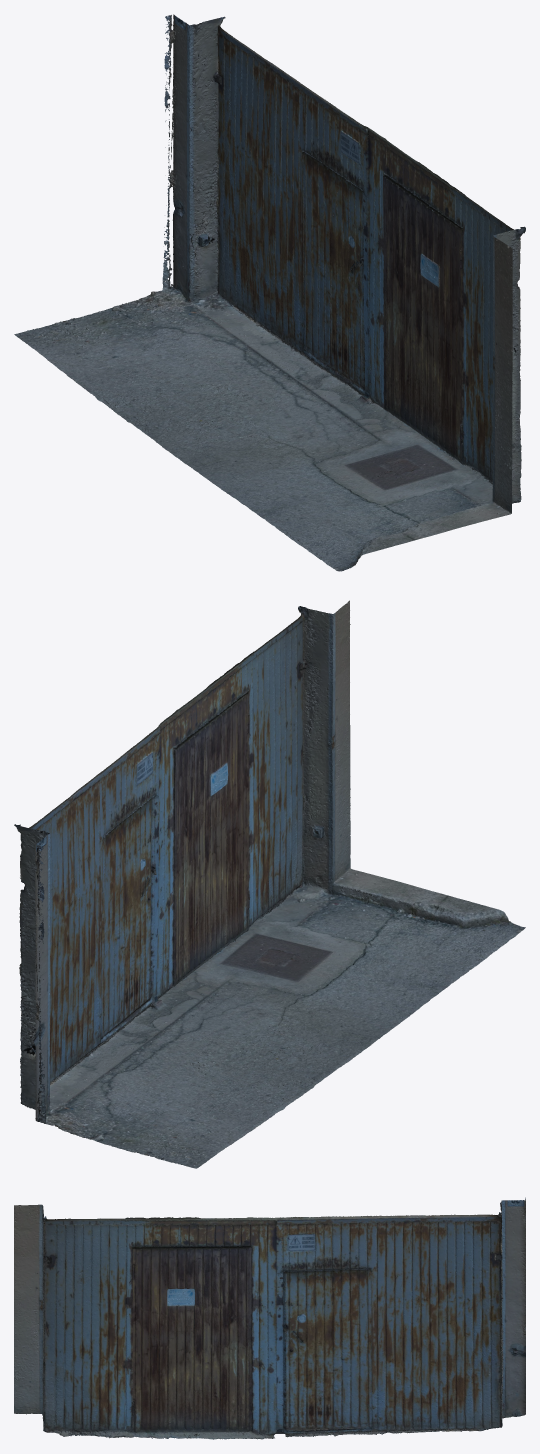
The model's file is sf-rusty-metal-gate-decimated-raw-scan-a1fd9c.glb.
The picture shows the model from 3 angles, top to bottom: view 1: azimuth 30°, elevation 25°; view 2: azimuth 150°, elevation 25°; view 3: azimuth 270°, elevation 25°; orthographic projection. The views are drawn at different scales.
Visible parts, largest first — view 1: rusty metal gate_rusty_metal_gate_0; view 2: rusty metal gate_rusty_metal_gate_0; view 3: rusty metal gate_rusty_metal_gate_0.
Boxes of the visible parts, left/top/right/bottom form: rusty metal gate_rusty_metal_gate_0: left=14, top=14, right=525, bottom=571; rusty metal gate_rusty_metal_gate_0: left=14, top=600, right=525, bottom=1168; rusty metal gate_rusty_metal_gate_0: left=14, top=1197, right=525, bottom=1439.
Size of the model in its own units: 1.86 by 2.44 by 5.03.
Materials: 1 (1 with a texture image).
